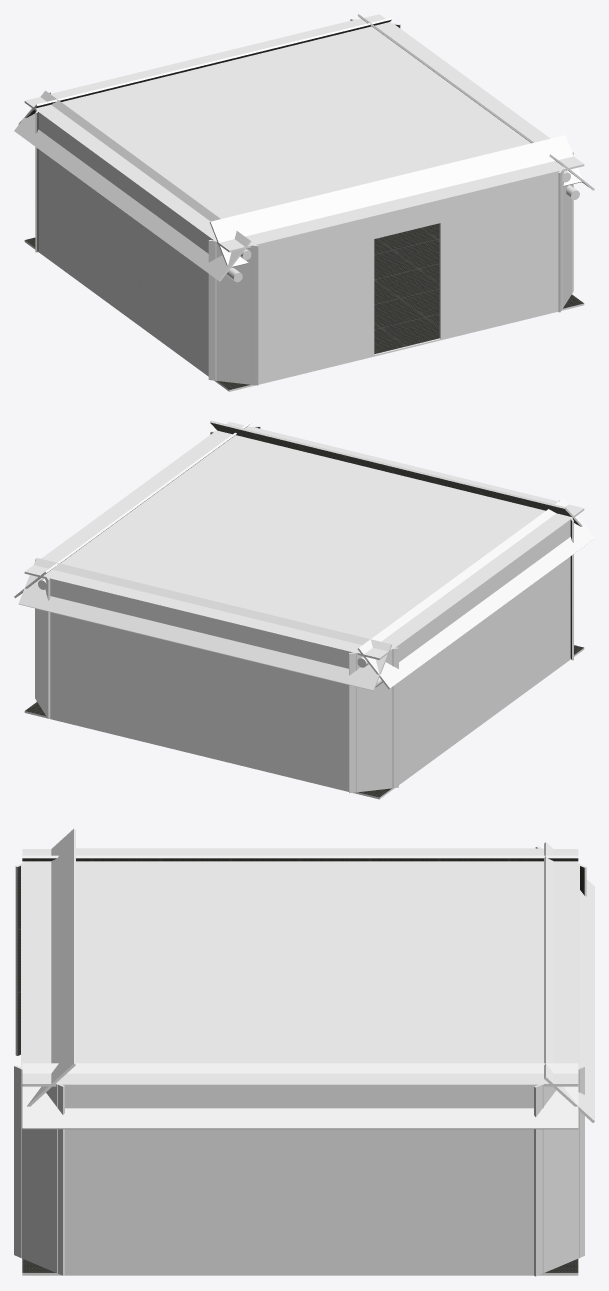
Rendered from EvacuationShelter.fbx.
3 renders of one model, top to bottom at view 1: azimuth 30°, elevation 25°; view 2: azimuth 150°, elevation 25°; view 3: azimuth 270°, elevation 25°, orthographic. The views are drawn at different scales.
Visible parts, largest first — view 1: node_id46, node_id34, node_id43, node_id49 (×2), node_id10, node_id19, node_id28, node_id22, node_id13 (×2), node_id16; view 2: node_id46, node_id37, node_id43, node_id13, node_id19, node_id25, node_id10 (×2), node_id31, node_id49, node_id16; view 3: node_id46, node_id40, node_id16, node_id22, node_id31, node_id10, node_id13, node_id19 (×2), node_id49, node_id28, node_id34.
Part boxes in pixels (left/top/right/bottom): node_id46: left=24, top=14, right=584, bottom=252; node_id34: left=252, top=169, right=562, bottom=384; node_id43: left=36, top=110, right=216, bottom=380; node_id49 (×2): left=24, top=223, right=584, bottom=391; node_id10: left=210, top=135, right=582, bottom=267; node_id19: left=14, top=90, right=251, bottom=281; node_id28: left=208, top=240, right=258, bottom=385; node_id22: left=558, top=152, right=573, bottom=312; node_id13 (×2): left=18, top=18, right=391, bottom=124; node_id16: left=357, top=14, right=594, bottom=190; node_id46: left=24, top=421, right=584, bottom=659; node_id37: left=46, top=577, right=357, bottom=792; node_id43: left=392, top=518, right=570, bottom=788; node_id13: left=18, top=558, right=391, bottom=690; node_id19: left=357, top=498, right=594, bottom=689; node_id25: left=349, top=647, right=398, bottom=793; node_id10 (×2): left=210, top=420, right=582, bottom=526; node_id31: left=35, top=559, right=50, bottom=718; node_id49: left=24, top=648, right=584, bottom=799; node_id16: left=14, top=421, right=251, bottom=598; node_id46: left=22, top=849, right=578, bottom=1086; node_id40: left=57, top=1084, right=543, bottom=1273; node_id16: left=22, top=1063, right=578, bottom=1129; node_id22: left=14, top=1065, right=64, bottom=1275; node_id31: left=534, top=1066, right=584, bottom=1276; node_id10: left=27, top=828, right=75, bottom=1106; node_id13: left=544, top=842, right=594, bottom=1122; node_id19 (×2): left=22, top=855, right=578, bottom=861; node_id49: left=22, top=1273, right=578, bottom=1275; node_id28: left=17, top=866, right=20, bottom=1055; node_id34: left=21, top=863, right=22, bottom=1258.
Size of the model in its own units: 0.512 by 0.2034 by 0.5049.
34 materials, 14 textured.
